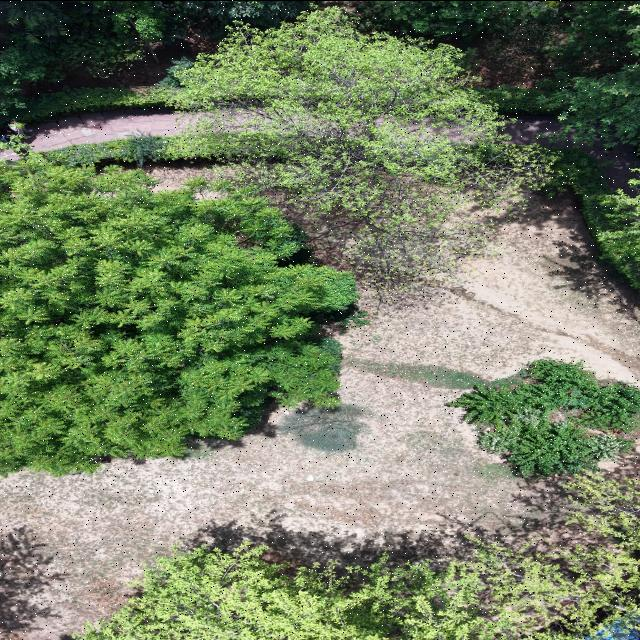DRY_AREA: (0, 194, 639, 639), (0, 368, 544, 639), (405, 194, 639, 380), (461, 193, 639, 380), (34, 26, 217, 94), (24, 106, 299, 151), (24, 106, 297, 151), (24, 107, 273, 151), (502, 115, 639, 194), (502, 115, 639, 193), (503, 115, 639, 192), (25, 107, 233, 151), (26, 108, 209, 151), (25, 108, 202, 151), (27, 108, 202, 150), (26, 108, 199, 150), (27, 109, 201, 150), (27, 109, 200, 150), (469, 28, 554, 87), (140, 159, 231, 191)
PATHWAYS: (503, 115, 639, 193), (503, 115, 639, 192)
VEGETATION_TREE: (0, 1, 639, 473), (0, 1, 636, 473), (21, 8, 551, 287), (0, 155, 356, 473), (173, 8, 552, 286), (76, 477, 639, 639), (44, 119, 554, 287), (249, 127, 552, 288), (360, 1, 639, 146), (360, 1, 639, 145), (78, 546, 498, 639), (0, 1, 303, 117), (0, 1, 301, 115), (0, 1, 307, 106), (442, 476, 639, 639), (486, 1, 639, 146), (448, 359, 639, 475), (358, 1, 567, 86), (480, 63, 639, 146), (545, 149, 639, 289), (550, 1, 639, 145), (479, 420, 633, 475), (362, 1, 558, 37), (5, 86, 163, 120), (277, 405, 366, 451), (597, 190, 639, 285), (2, 1, 66, 41)
